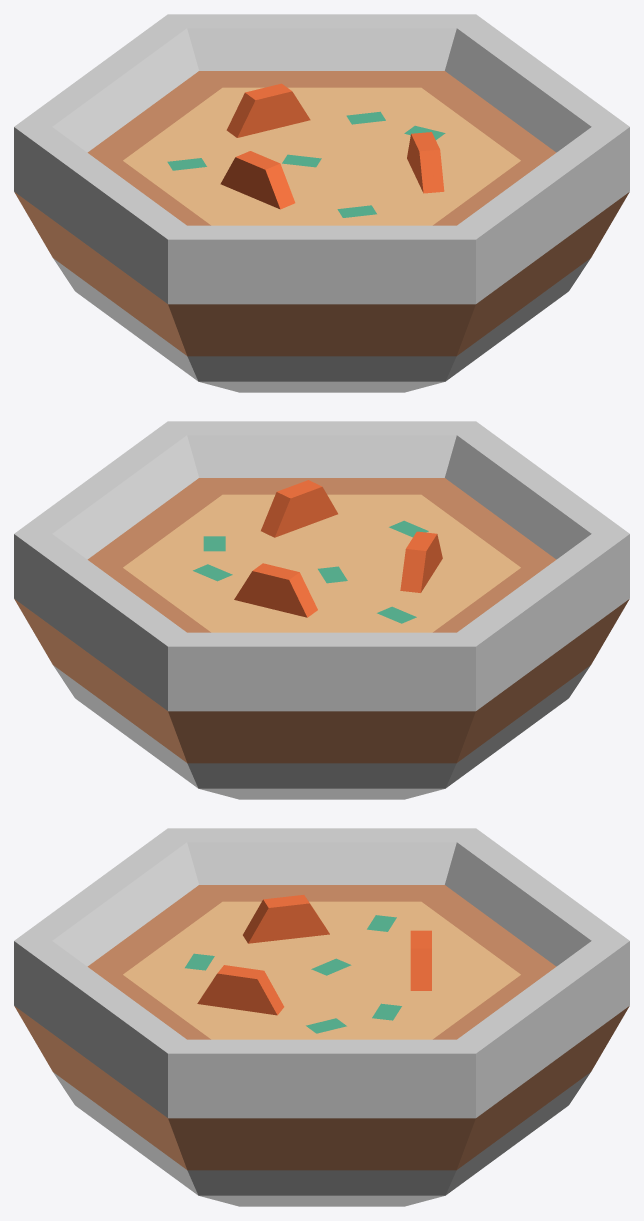
The model's file is bowlSoup.fbx.
3 renders of one model, top to bottom at view 1: azimuth 30°, elevation 25°; view 2: azimuth 150°, elevation 25°; view 3: azimuth 270°, elevation 25°, orthographic.
Visible parts, largest first — view 1: bowlSoup; view 2: bowlSoup; view 3: bowlSoup.
Part boxes in pixels (x1,y1,x2,y2): bowlSoup: (14, 14, 629, 392); bowlSoup: (14, 421, 629, 799); bowlSoup: (14, 828, 629, 1206).
Size of the model in its own units: 5.02 by 2.14 by 5.8.
